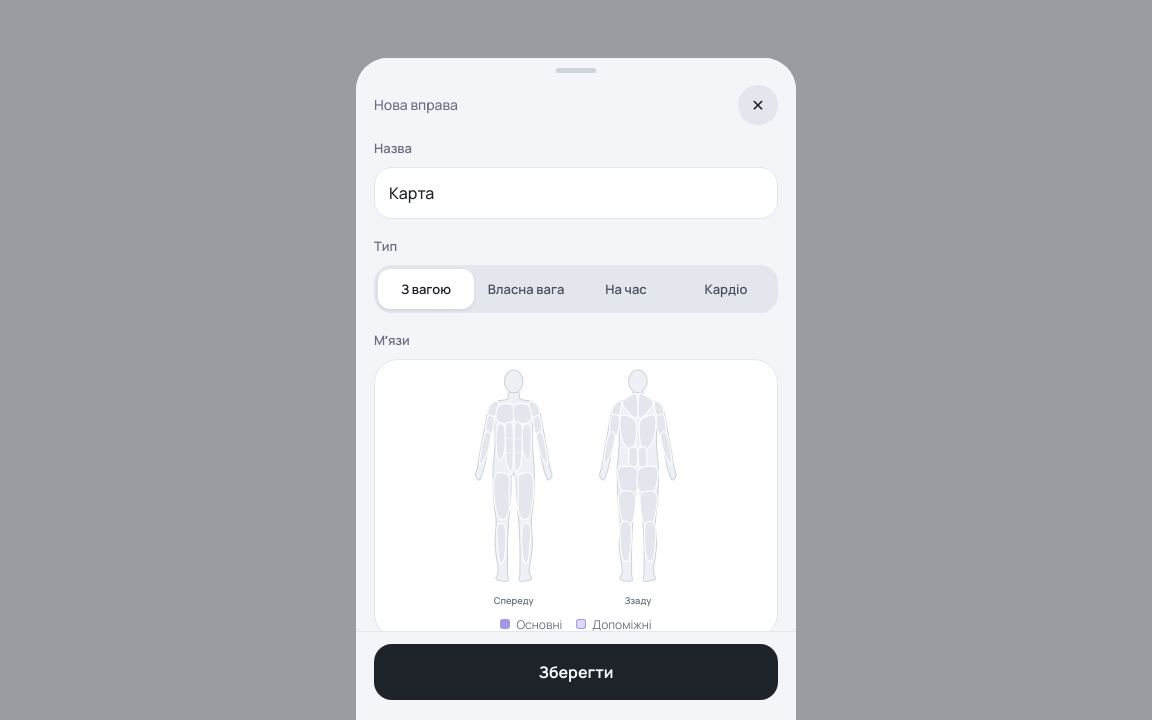
Test case: ExerciseEditorSheet › a tap on the map cycles that muscle like its chip (and highlights the chip)
Click the icon "Спереду Ззаду" at coordinates (576, 488), box [462, 368, 690, 608]
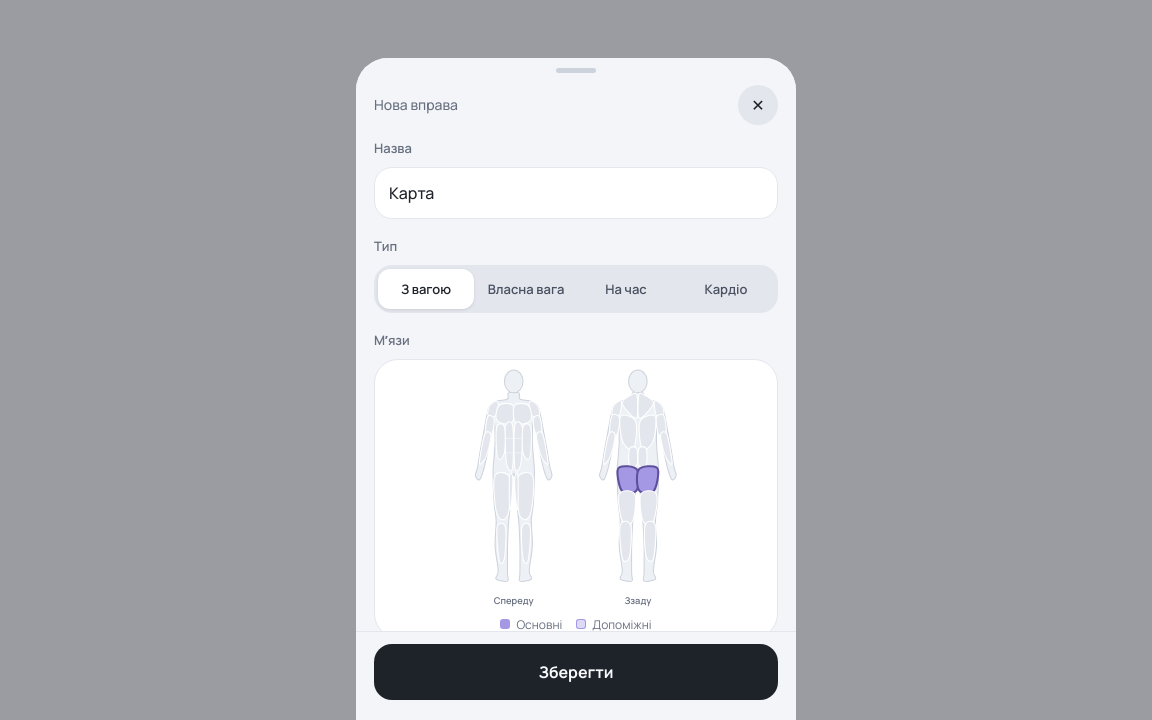
Click the icon "Спереду Ззаду" at coordinates (576, 488), box [462, 368, 690, 608]
(page scrolled)
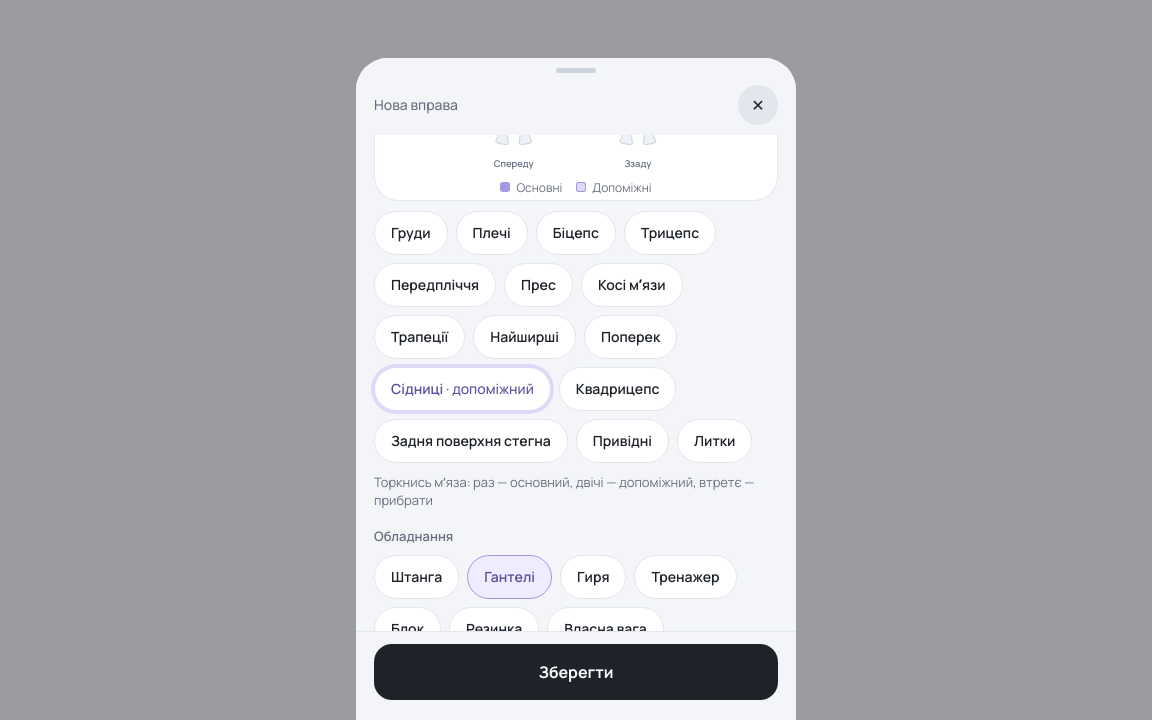
Now the button "Сідниці · допоміжний" is shown, box [374, 367, 551, 411]
